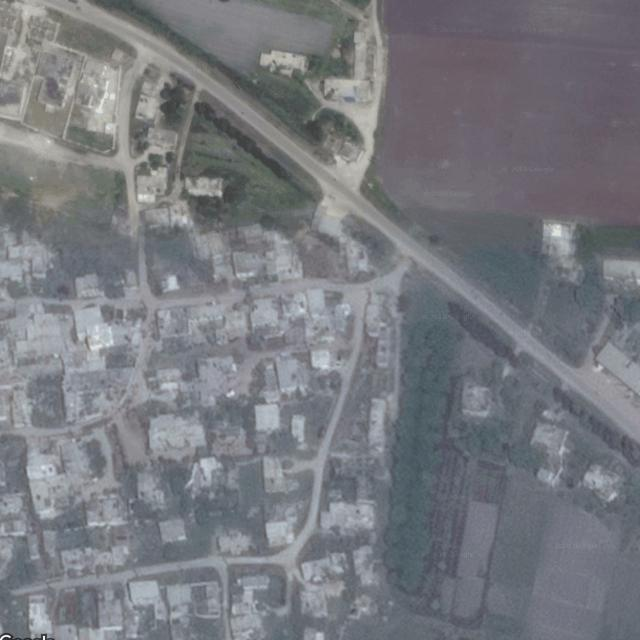damaged_building: (148, 412, 205, 456), (57, 542, 130, 572), (299, 578, 342, 622), (351, 542, 376, 585)
